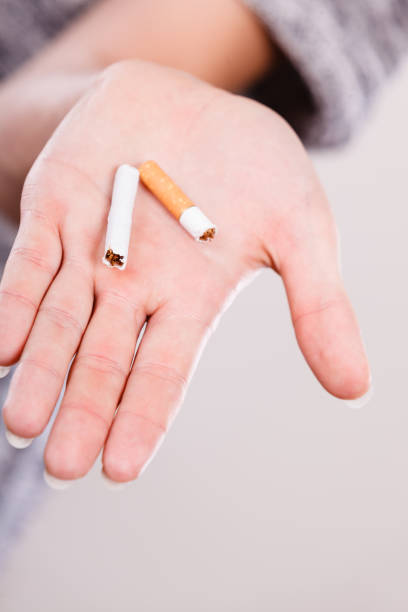cigarette: (138, 159, 219, 244), (101, 163, 140, 272)
